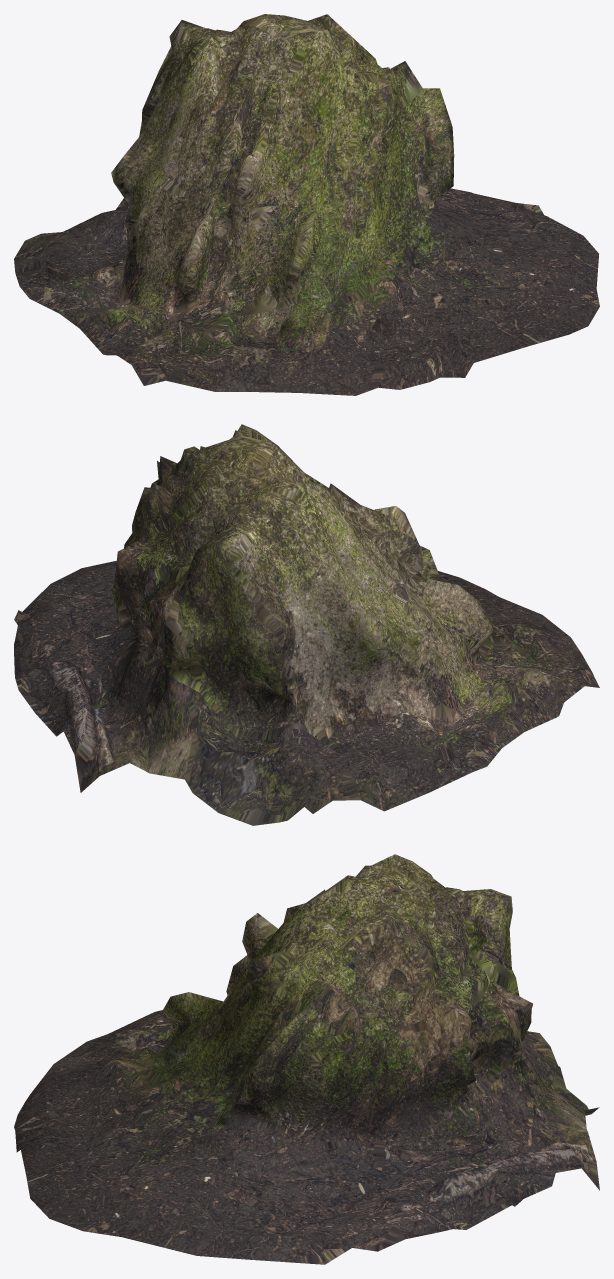
The model's file is PX_Stump_11_LOD5.fbx.
3 views of the same model, one above another, from view 1: azimuth 30°, elevation 25°; view 2: azimuth 150°, elevation 25°; view 3: azimuth 270°, elevation 25° (orthographic). The views are drawn at different scales.
Parts seen in each view (by area): view 1: PX_Stump_11_LOD5; view 2: PX_Stump_11_LOD5; view 3: PX_Stump_11_LOD5.
Boxes of the visible parts, left/top/right/bottom form: PX_Stump_11_LOD5: left=14, top=14, right=599, bottom=395; PX_Stump_11_LOD5: left=14, top=424, right=599, bottom=825; PX_Stump_11_LOD5: left=14, top=854, right=599, bottom=1264.
Bounding box in the file's own units: 55.2 × 29.14 × 53.31.
